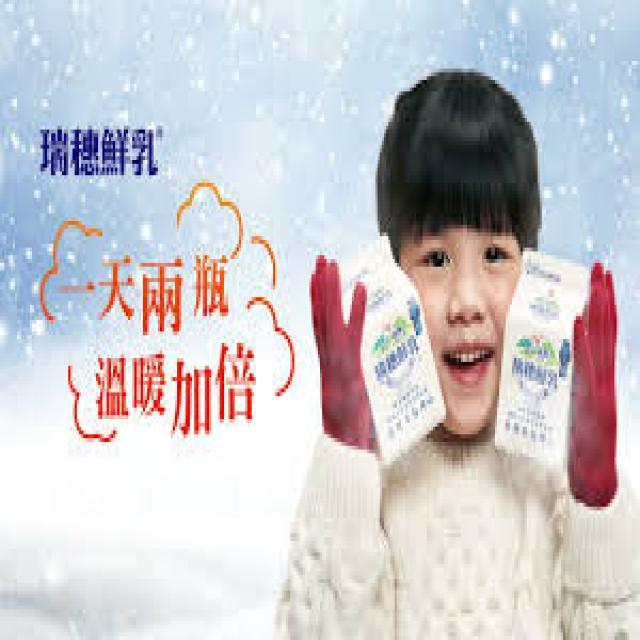RuiSui_Milk: (333, 231, 448, 470), (488, 241, 586, 473)
